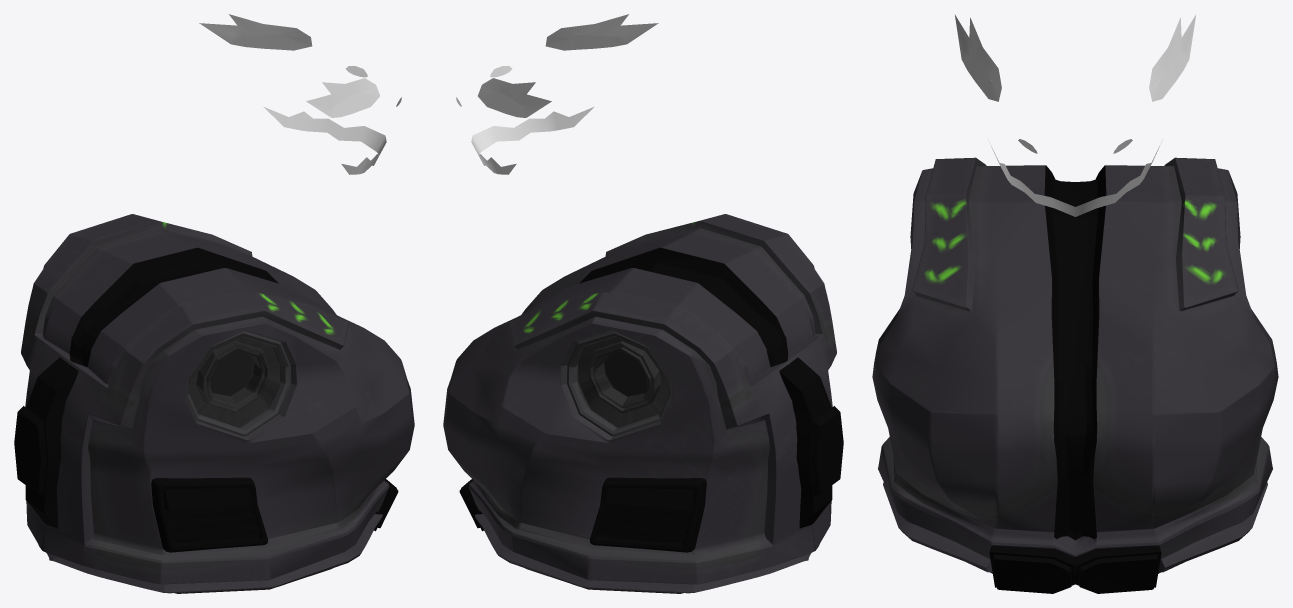
Rendered from AS_DiagF_MOuthKK.fbx.
3 renders of one model, left to right at view 1: azimuth 30°, elevation 25°; view 2: azimuth 150°, elevation 25°; view 3: azimuth 270°, elevation 25°, orthographic. The views are drawn at different scales.
Parts seen in each view (by area): view 1: Chest_armor, Face; view 2: Chest_armor, Face; view 3: Chest_armor, Face.
Boxes of the visible parts, x1,y1,x2,y2 form: Chest_armor: (14,214,414,593); Face: (199,14,401,174); Chest_armor: (443,214,843,593); Face: (456,14,658,174); Chest_armor: (872,157,1278,593); Face: (955,15,1195,216).
Size of the model in its own units: 30.79 by 26.77 by 38.9.
